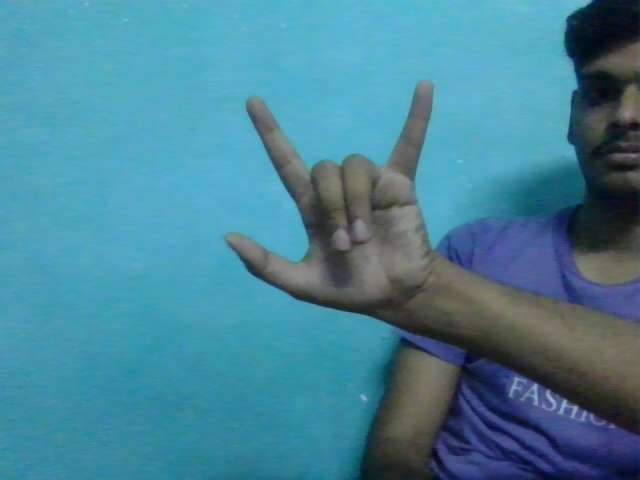iloveyou: (222, 76, 457, 317)
